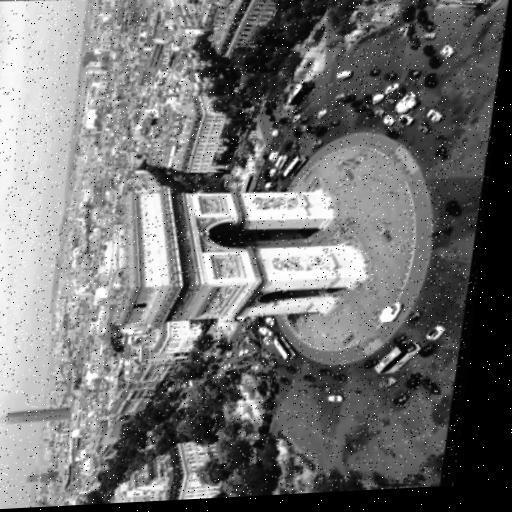balloon: (112, 89, 128, 98), (113, 99, 128, 107)
